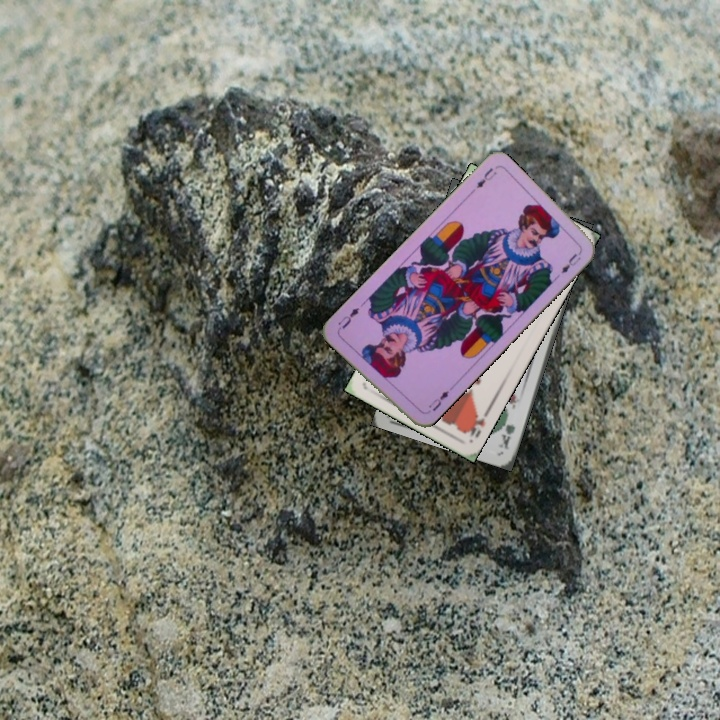EU: (422, 386, 452, 416), (473, 164, 499, 191)
GK: (494, 420, 518, 452)
HO: (462, 406, 492, 443)
